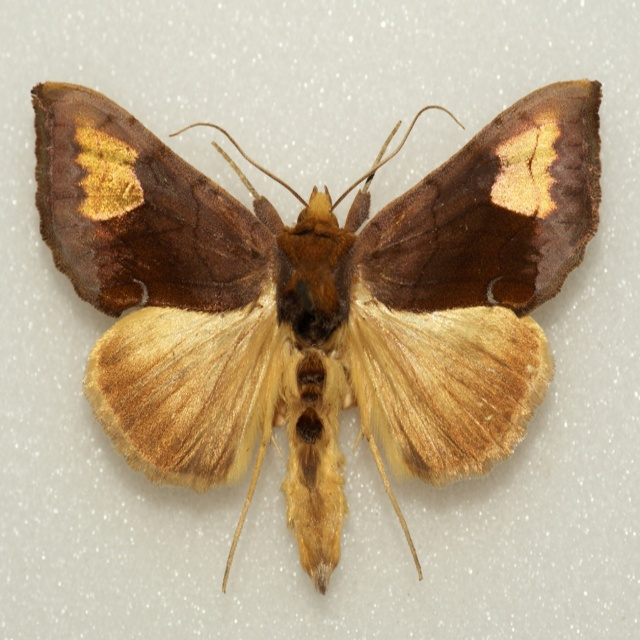Butterfly: (31, 77, 604, 593)
